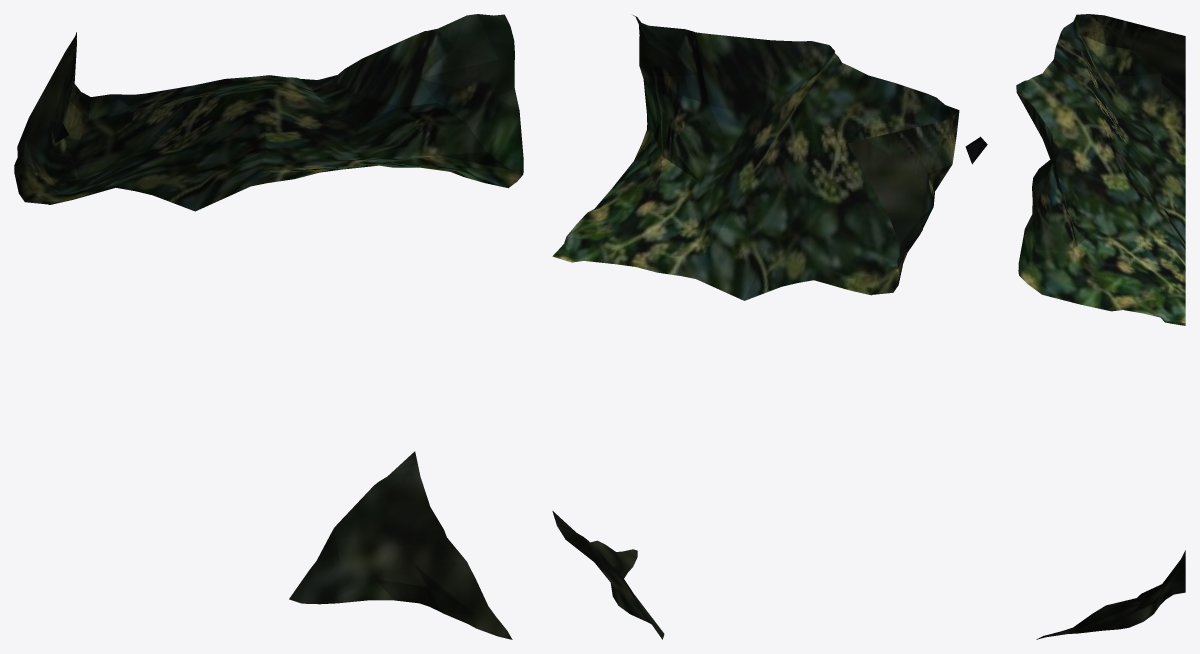
3 renders of one model, left to right at view 1: azimuth 30°, elevation 25°; view 2: azimuth 150°, elevation 25°; view 3: azimuth 270°, elevation 25°, orthographic. The views are drawn at different scales.
Bounding box in the file's own units: 0.6067 × 0.8374 × 0.2696.
Materials: 1 (1 with a texture image).
